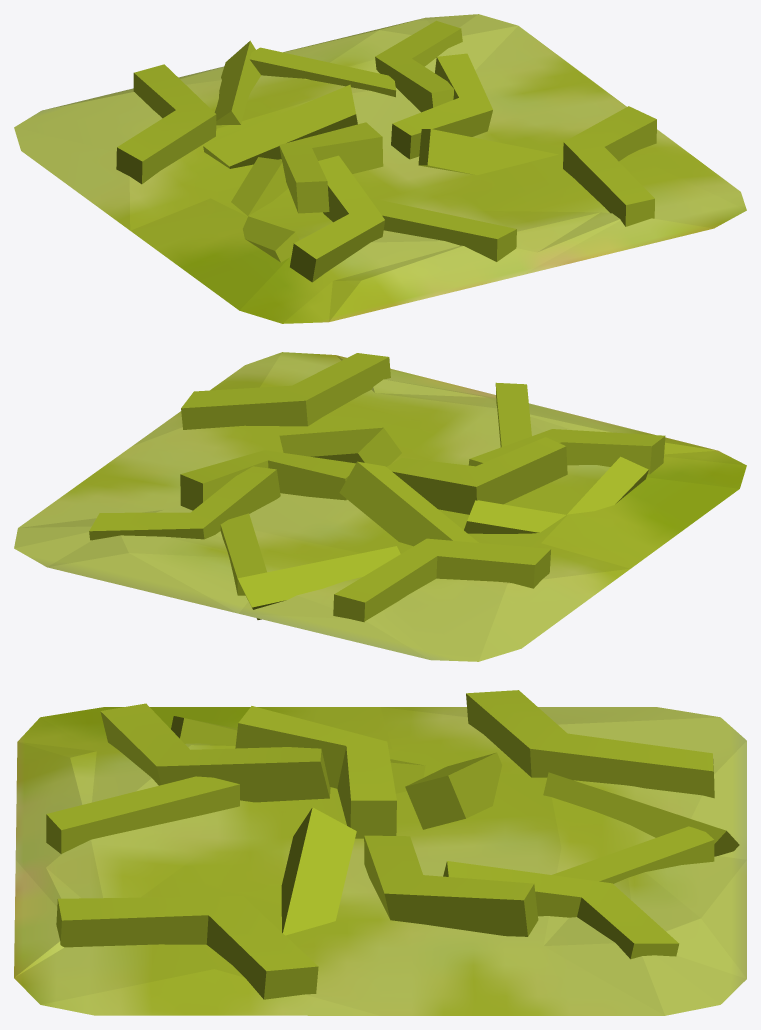
Rendered from SM_Prop_Kitchen_Counter_Food_Insert_Small_01.obj.
The picture shows the model from 3 angles, top to bottom: view 1: azimuth 30°, elevation 25°; view 2: azimuth 150°, elevation 25°; view 3: azimuth 270°, elevation 25°; orthographic projection. The views are drawn at different scales.
Visible parts, largest first — view 1: SM_Prop_Kitchen_Counter_Food_Insert_Small_01_0; view 2: SM_Prop_Kitchen_Counter_Food_Insert_Small_01_0; view 3: SM_Prop_Kitchen_Counter_Food_Insert_Small_01_0.
Part boxes in pixels (x1,y1,x2,y2): SM_Prop_Kitchen_Counter_Food_Insert_Small_01_0: [14, 14, 746, 323]; SM_Prop_Kitchen_Counter_Food_Insert_Small_01_0: [14, 352, 746, 661]; SM_Prop_Kitchen_Counter_Food_Insert_Small_01_0: [14, 690, 746, 1015].
Size of the model in its own units: 0.2884 by 0.0537 by 0.2884.
Materials: 1 (1 with a texture image).
